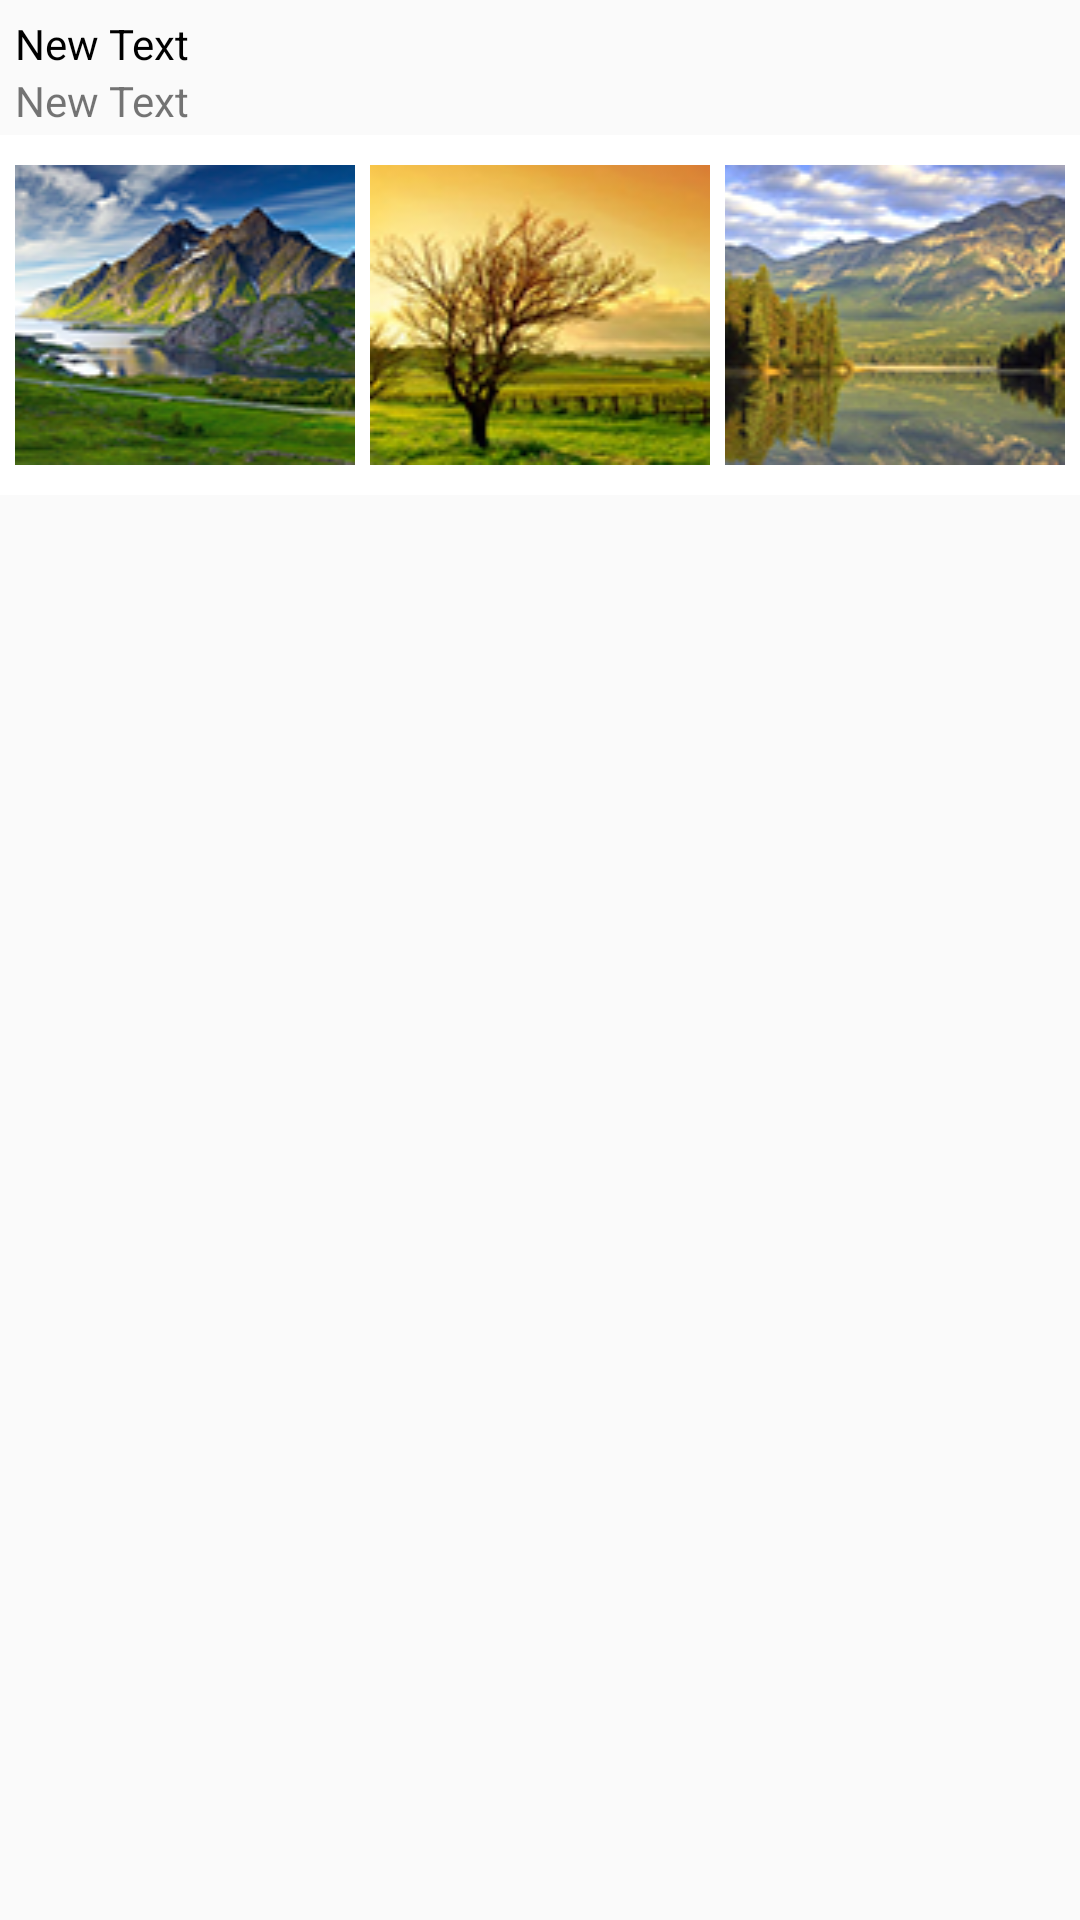

Where icons sit on this 1080×1920 app screen, as bbox=[x1, y1, x2, y2]:
landscape: bbox=[15, 165, 355, 465]
landsccape: bbox=[370, 165, 710, 465]
landsccapee: bbox=[725, 165, 1065, 465]
